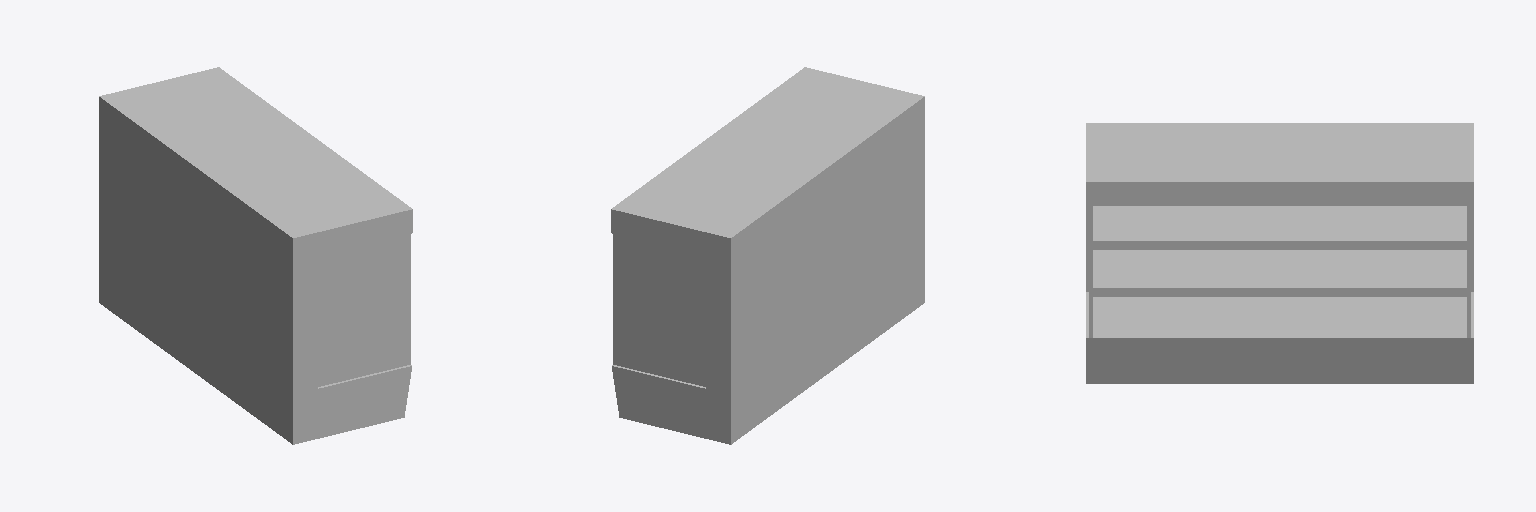
Rendered from ColdShelves.obj.
The picture shows the model from 3 angles: view 1: azimuth 30°, elevation 25°; view 2: azimuth 150°, elevation 25°; view 3: azimuth 270°, elevation 25°; orthographic projection.
Visible parts, largest first — view 1: ColdShelves:pCube1 group; view 2: ColdShelves:pCube1 group; view 3: ColdShelves:pCube1 group.
Boxes of the visible parts, <box> form: ColdShelves:pCube1 group: <box>99,67,412,444</box>; ColdShelves:pCube1 group: <box>611,67,924,444</box>; ColdShelves:pCube1 group: <box>1086,123,1473,383</box>.
Size of the model in its own units: 5.02 by 8.26 by 14.08.